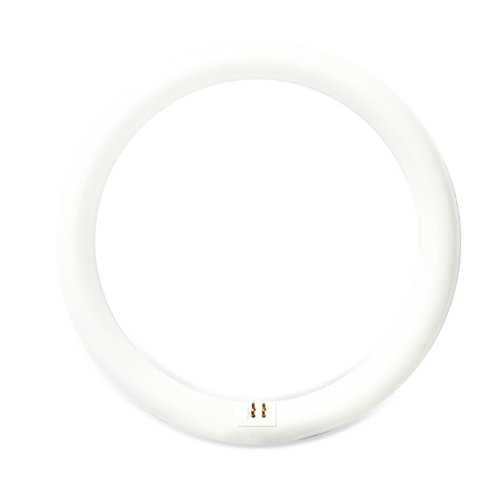Light_bulb: (49, 36, 471, 456)
